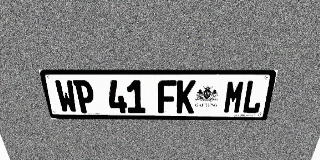1: (125, 80, 145, 113)
4: (106, 80, 127, 113)
F: (158, 80, 176, 113)
K: (176, 80, 196, 113)
L: (241, 80, 266, 114)
M: (223, 80, 246, 114)
P: (73, 80, 96, 113)
W: (54, 80, 78, 113)
